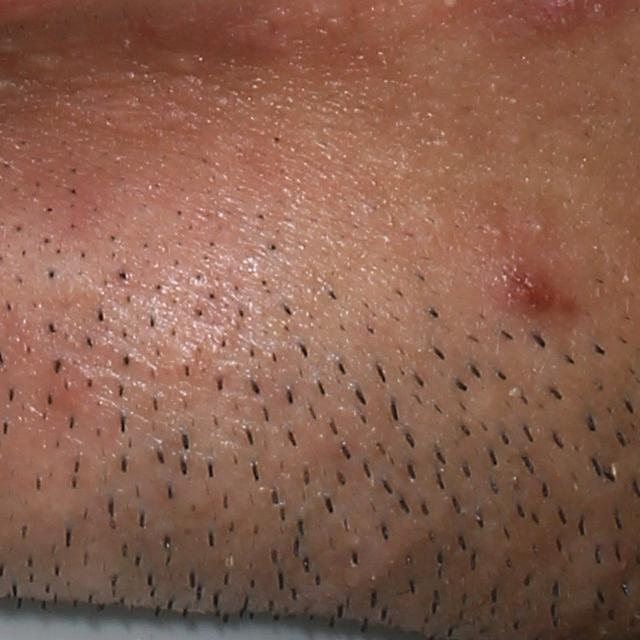hypertrophic_scar: (29, 54, 73, 75), (157, 52, 201, 71)
papule: (478, 242, 551, 317), (39, 359, 88, 418)
